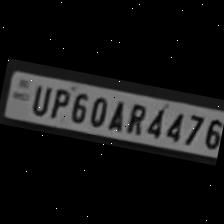0: (86, 92, 112, 128)
4: (143, 103, 167, 139), (161, 106, 185, 142)
6: (65, 88, 92, 125), (200, 114, 222, 151)
7: (180, 110, 204, 147)
A: (105, 96, 128, 132)
P: (45, 84, 71, 121)
R: (121, 99, 148, 136)
U: (28, 80, 54, 116)
